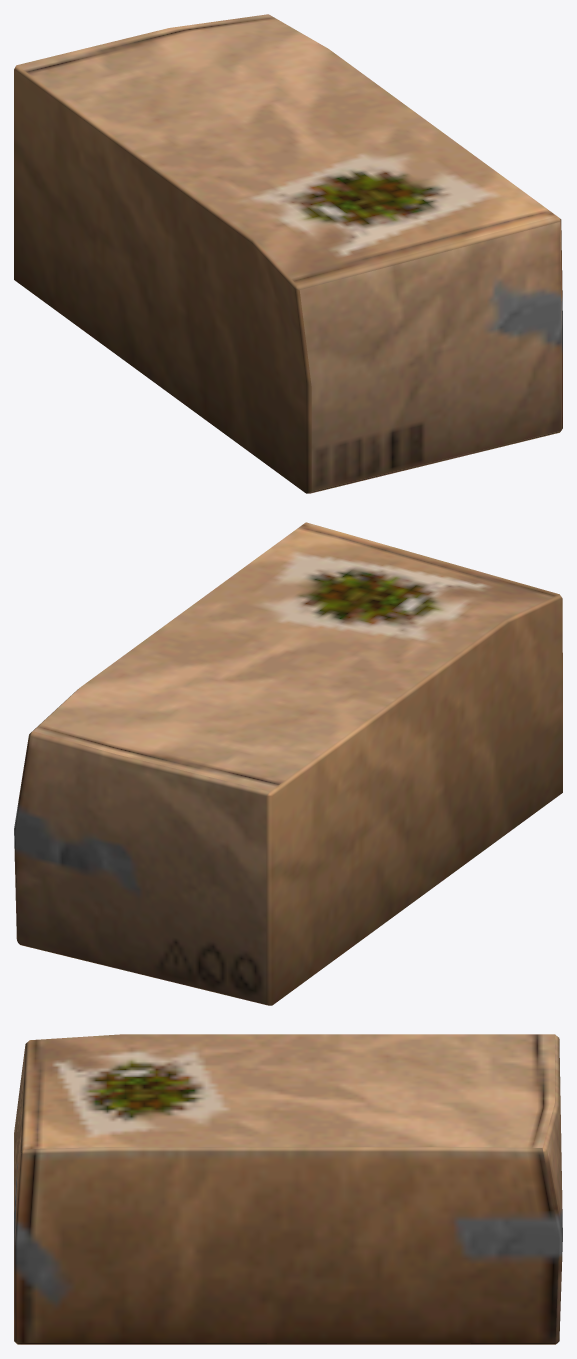
File: SM_PRP_Package_A_01.fbx
3 renders of one model, top to bottom at view 1: azimuth 30°, elevation 25°; view 2: azimuth 150°, elevation 25°; view 3: azimuth 270°, elevation 25°, orthographic. The views are drawn at different scales.
Parts seen in each view (by area): view 1: SM_PRP_Package_A_01; view 2: SM_PRP_Package_A_01; view 3: SM_PRP_Package_A_01.
Boxes of the visible parts, bbox=[...] form: SM_PRP_Package_A_01: bbox=[14, 14, 562, 493]; SM_PRP_Package_A_01: bbox=[14, 522, 562, 1005]; SM_PRP_Package_A_01: bbox=[14, 1034, 562, 1344].
Bounding box in the file's own units: 7.65 × 14.98 × 5.95.
Materials: 1 (1 with a texture image).
